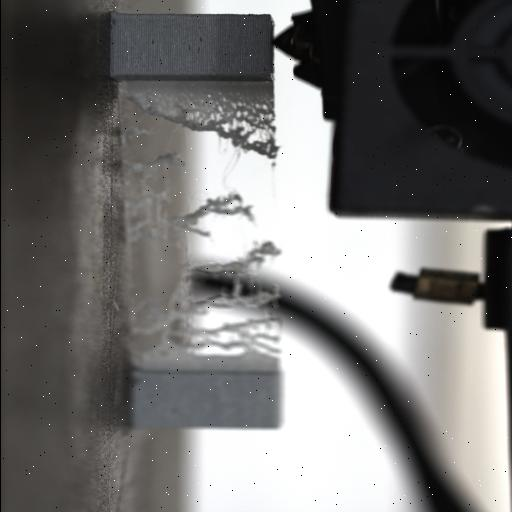stringing: (120, 84, 280, 164), (182, 242, 284, 312), (173, 314, 283, 358)
